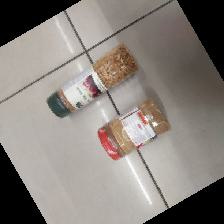Hao_hao: (97, 100, 169, 162)
TayNinh_green: (45, 46, 137, 117)
